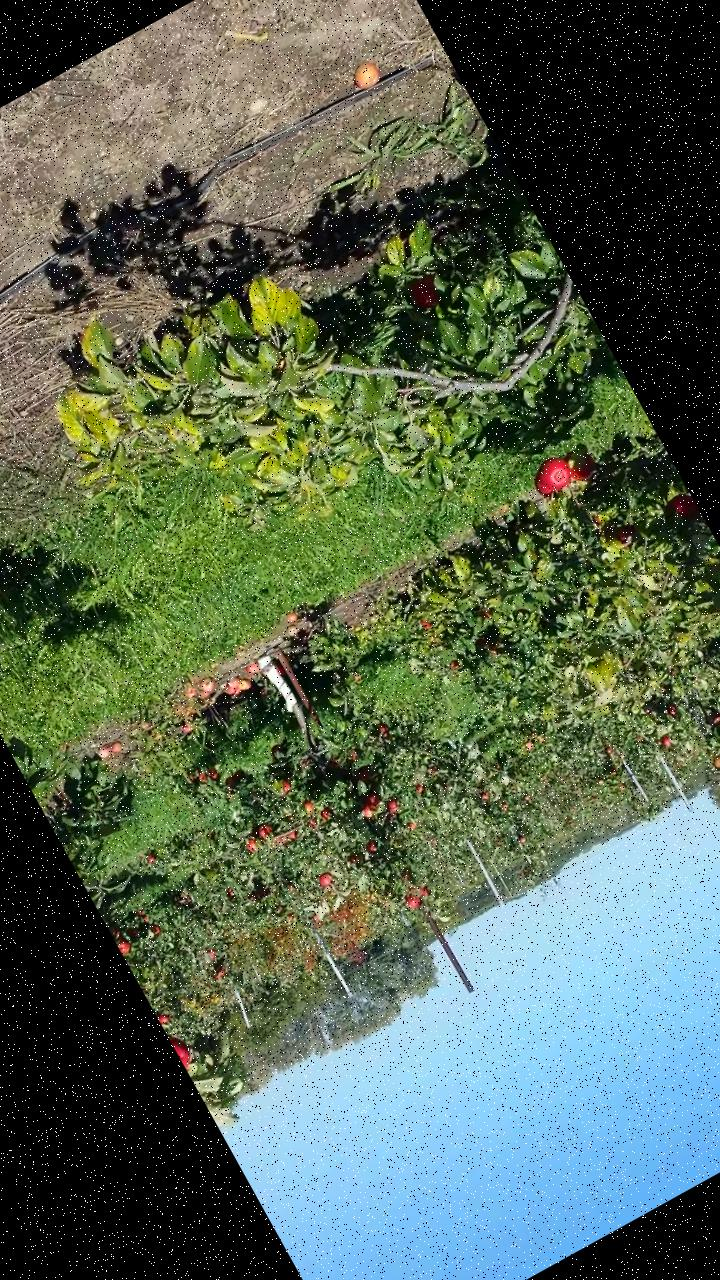Apple: (532, 452, 577, 497), (404, 272, 448, 315), (562, 444, 602, 486), (665, 489, 701, 527), (170, 1032, 196, 1070), (614, 522, 642, 550), (530, 472, 556, 502)
